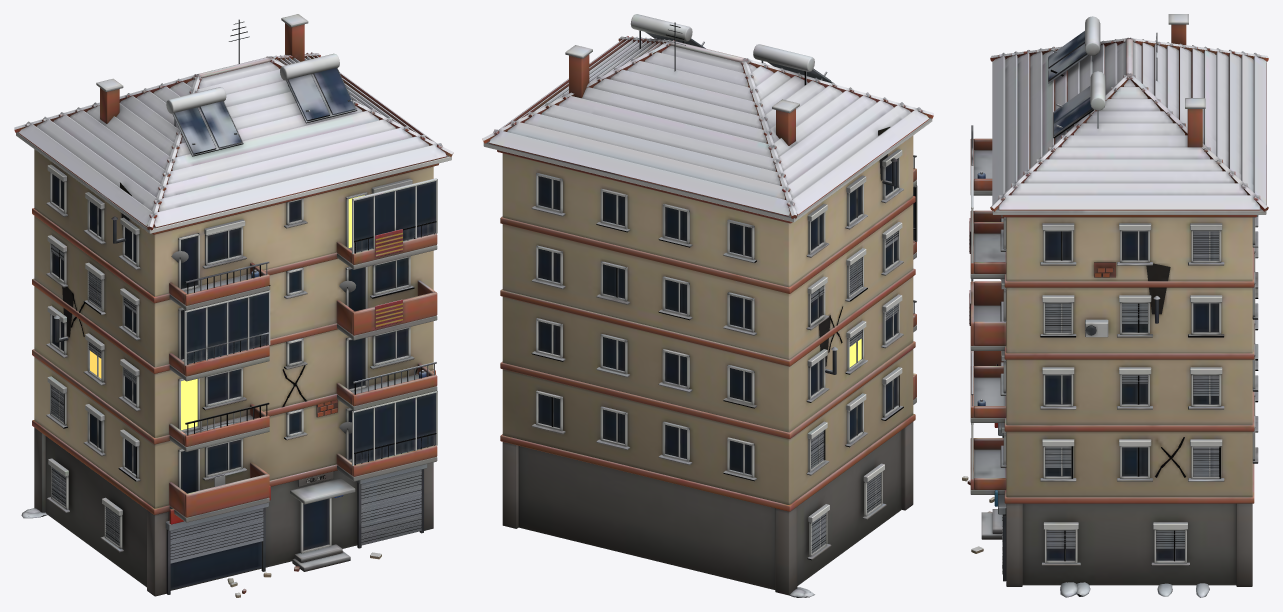
File: apartment_a.glb
The picture shows the model from 3 angles, left to right: view 1: azimuth 30°, elevation 25°; view 2: azimuth 150°, elevation 25°; view 3: azimuth 270°, elevation 25°; orthographic projection. The views are drawn at different scales.
Parts seen in each view (by area): view 1: apartment_a, apartment_a_glow; view 2: apartment_a; view 3: apartment_a.
Boxes of the visible parts, box(x1,y1,x2,y2) form: apartment_a: box(14, 14, 453, 597); apartment_a_glow: box(90, 195, 364, 430); apartment_a: box(482, 14, 933, 597); apartment_a: box(962, 14, 1268, 597).
Size of the model in its own units: 13.7 by 19.93 by 11.21.
Materials: 2 (1 with a texture image).
